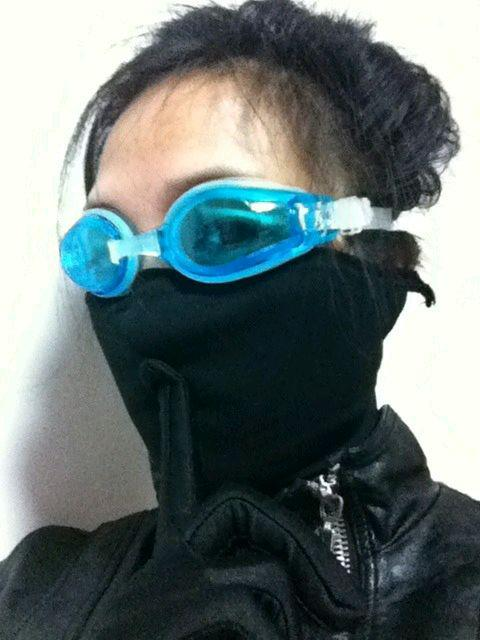OK: (71, 154, 357, 440)
